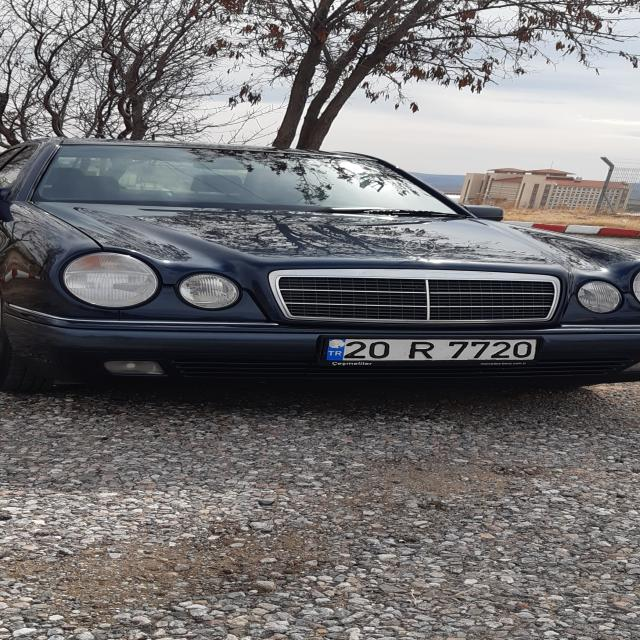plate: (325, 338, 538, 360)
